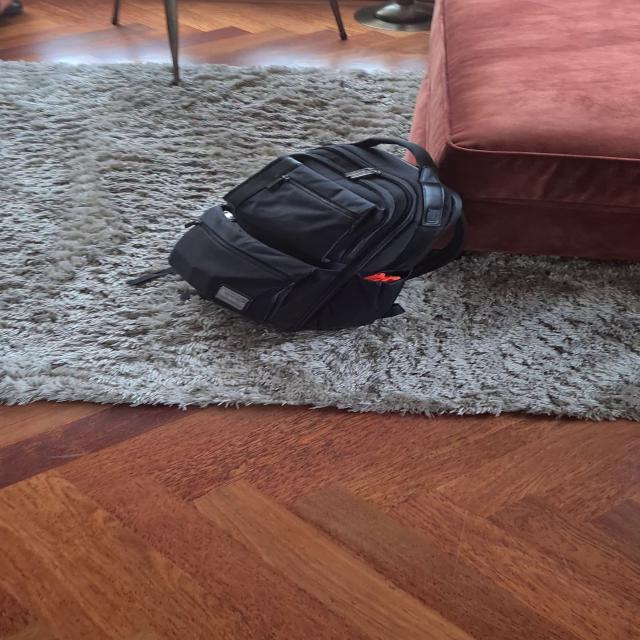backpack: (157, 130, 479, 339)
